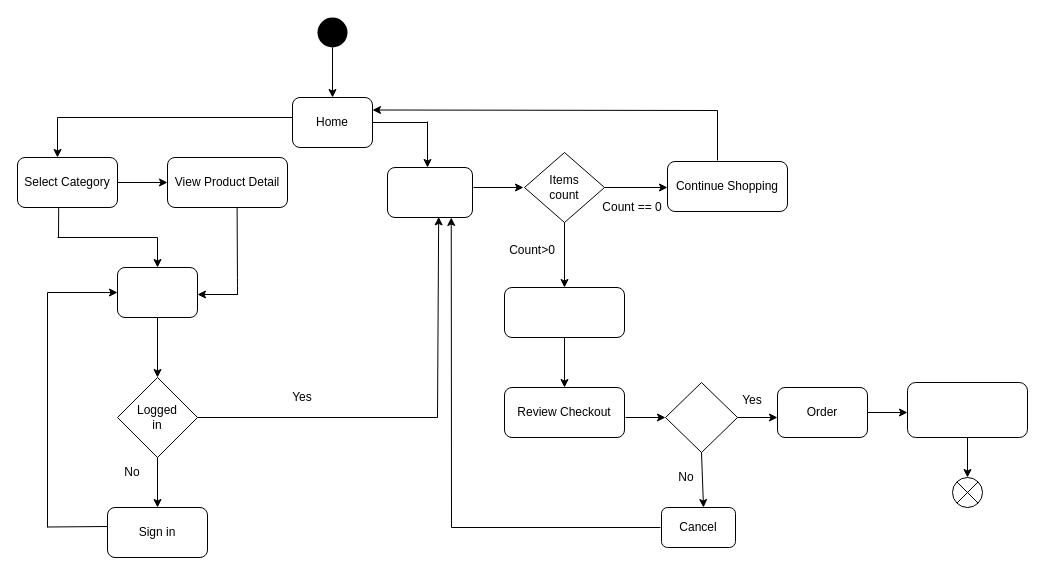
Image size: 1045x575. Some labels were removed from this diagram. Here are the shapes that lost their labels. From the top down, the centre of each, then its label:
At (x=429, y=192): "Cart".
At (x=157, y=292): "Add to Cart".
At (x=564, y=312): "Proceed To Checkout".
At (x=701, y=417): "Correct".
At (x=967, y=410): "Download Receipt".
